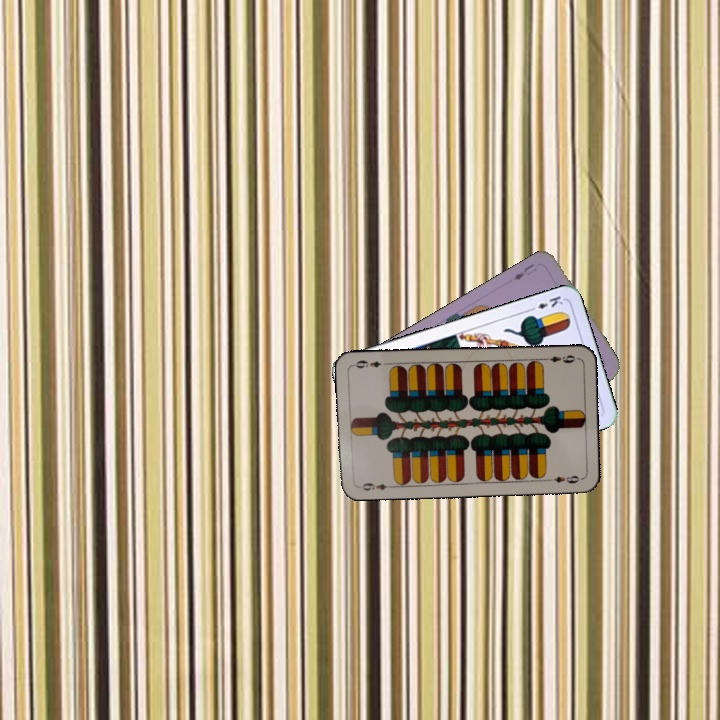E9: (354, 479, 395, 493), (539, 351, 577, 365)
EK: (525, 291, 566, 314)
EU: (510, 260, 539, 283)
